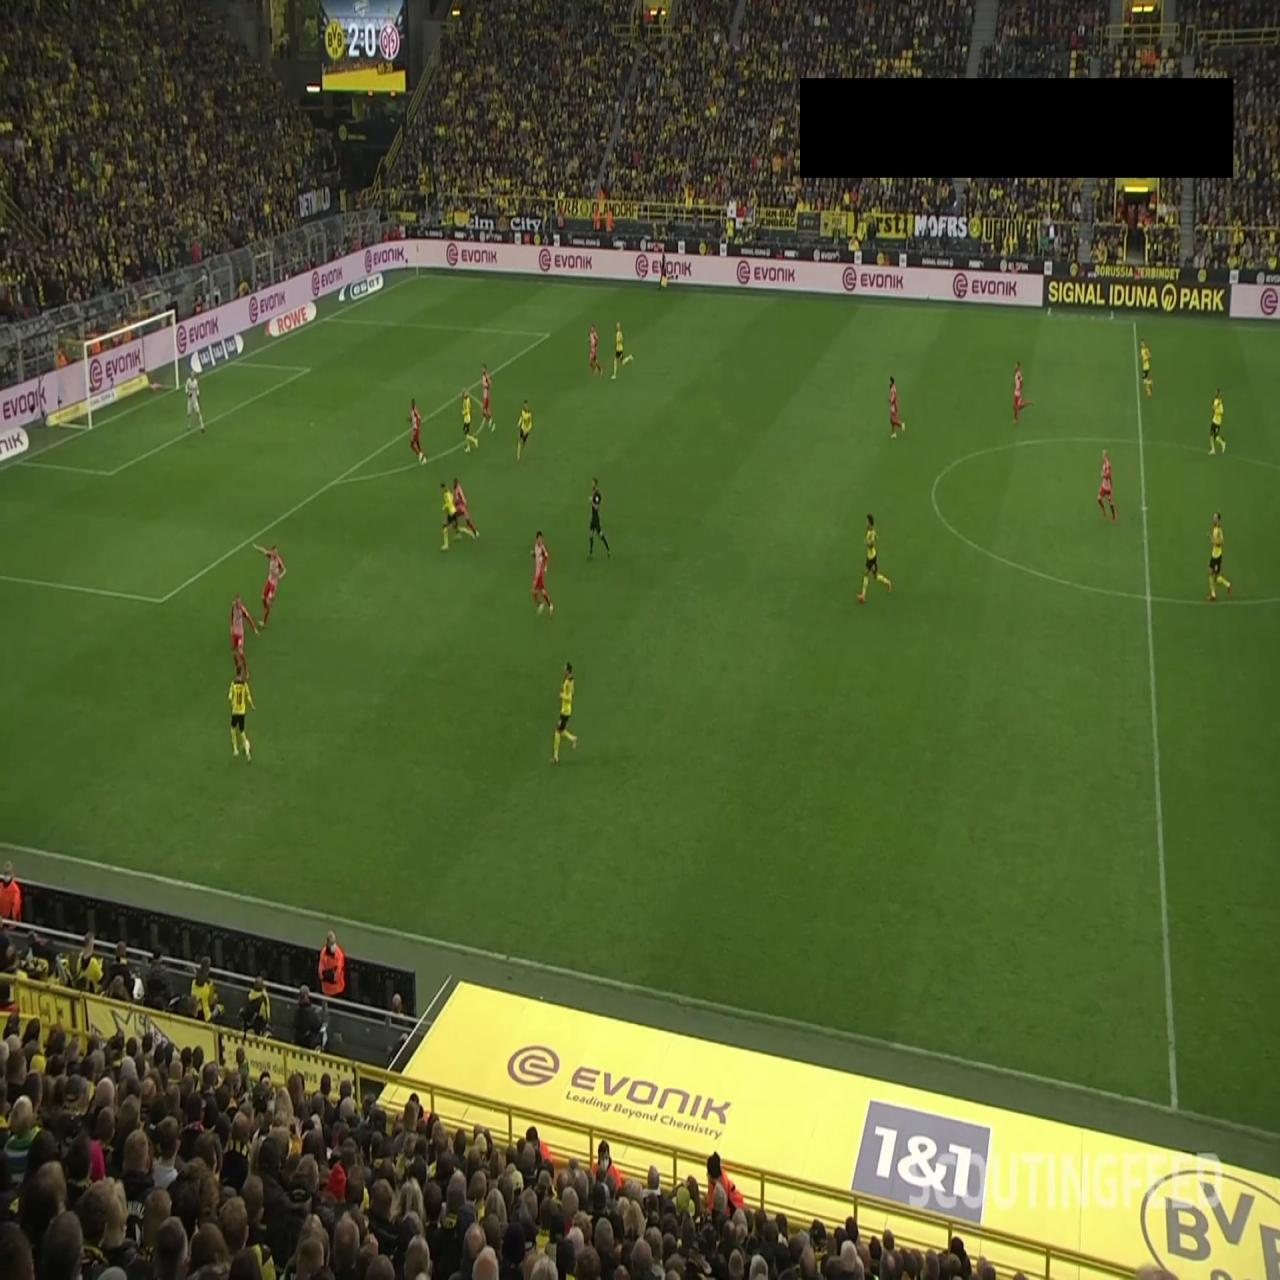ball: (242, 739, 251, 756)
goalkeeper: (186, 372, 206, 432)
player: (858, 515, 892, 603), (547, 663, 575, 766), (226, 667, 254, 763), (230, 590, 260, 676), (256, 546, 285, 628), (1208, 512, 1234, 601), (529, 530, 552, 618), (450, 476, 479, 542), (440, 480, 461, 551), (1100, 449, 1120, 522), (612, 320, 636, 380), (1010, 362, 1030, 428), (459, 392, 478, 456), (410, 398, 428, 463), (1209, 389, 1226, 457), (889, 374, 906, 436), (514, 399, 530, 461), (481, 364, 494, 433), (589, 325, 603, 380), (1142, 336, 1155, 395)
referee: (588, 478, 612, 562), (656, 245, 668, 291)
